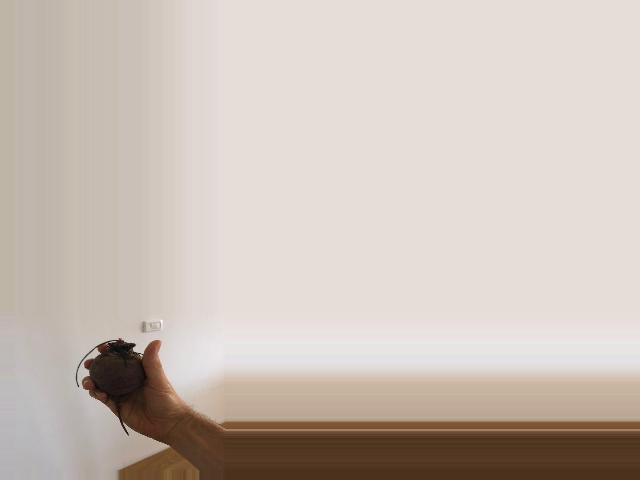beet: (74, 338, 143, 435)
